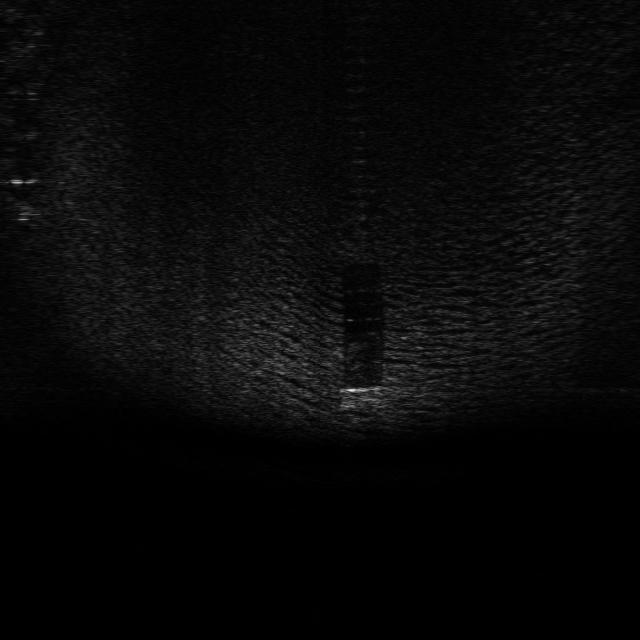cube: (343, 386, 393, 414)
